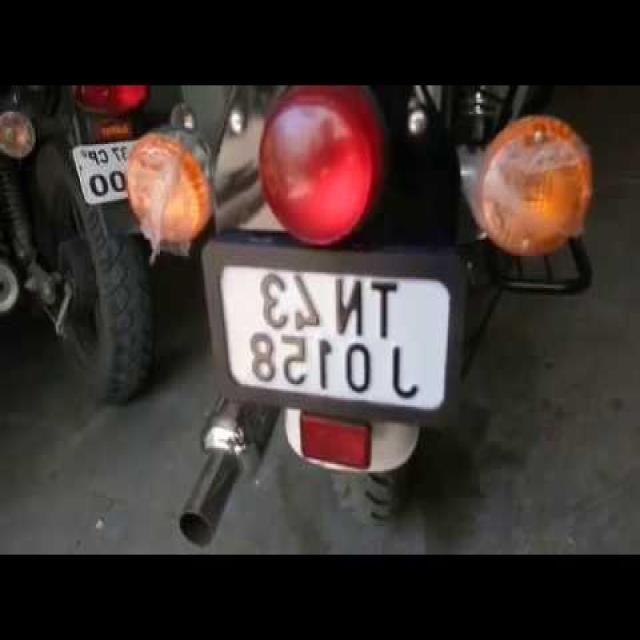number-plate: (204, 259, 459, 416)
